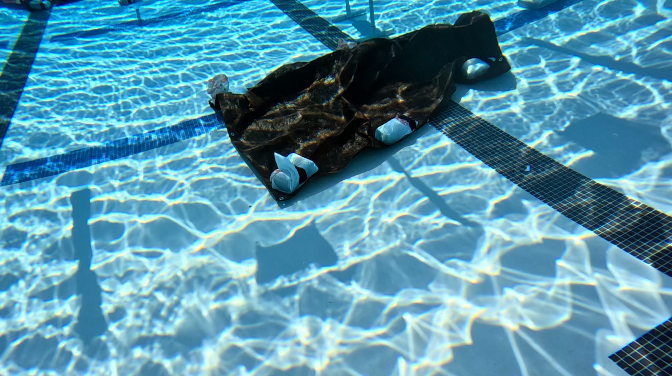sandbag: (209, 9, 510, 205)
